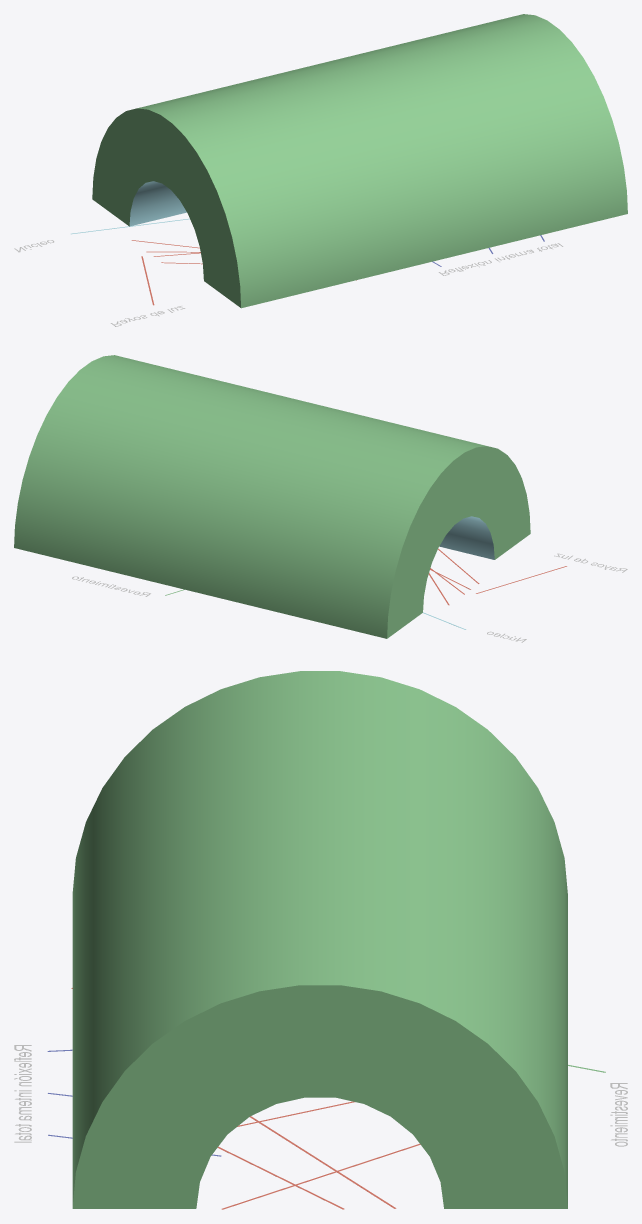
The model's file is FuncionFOP2.glb.
3 views of the same model, one above another, from view 1: azimuth 30°, elevation 25°; view 2: azimuth 150°, elevation 25°; view 3: azimuth 270°, elevation 25° (orthographic). The views are drawn at different scales.
Visible parts, largest first — view 1: FuncionFOP2; view 2: FuncionFOP2; view 3: FuncionFOP2.
Part boxes in pixels (bbox=[...]): FuncionFOP2: bbox=[14, 14, 627, 326]; FuncionFOP2: bbox=[14, 355, 627, 642]; FuncionFOP2: bbox=[14, 671, 627, 1209].
Bounding box in the file's own units: 38.86 × 9.97 × 24.78.
